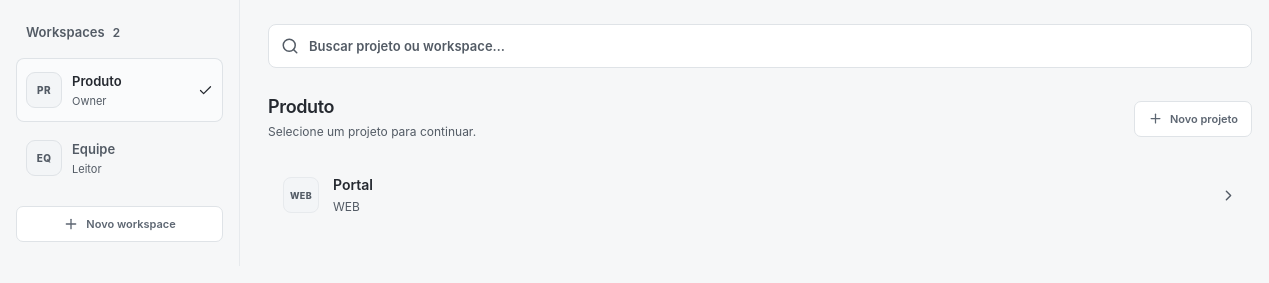
Test: switches workspace without opening a project and respects creation permissions
Click the button "EQ Equipe Leitor".
click(120, 158)  # box [16, 126, 223, 190]
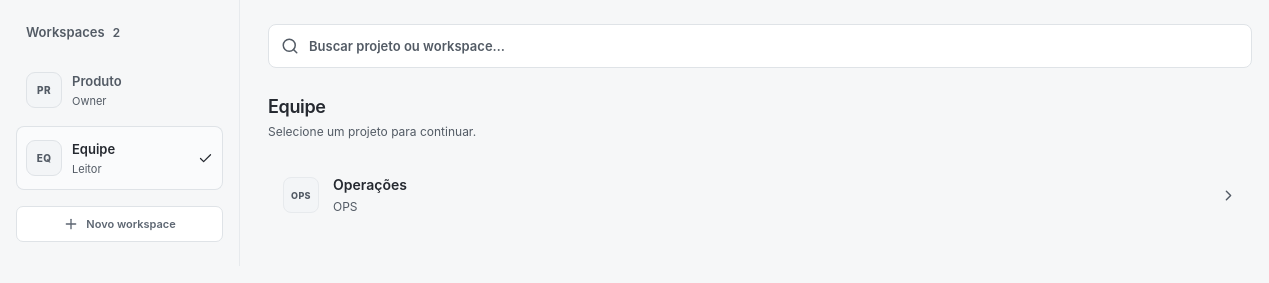
Now the button with class "navigator-project" shows "Operações", box [270, 159, 1250, 231]
Now the button "Novo projeto" is gone
